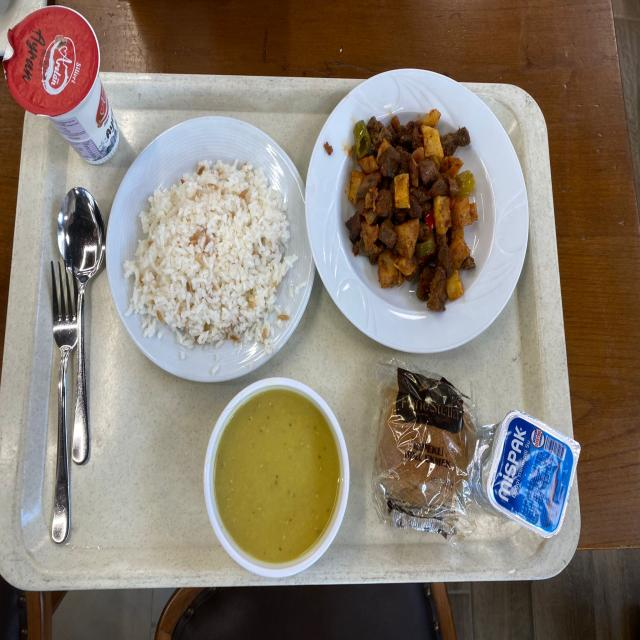ana_yemek: (320, 93, 504, 334), (112, 129, 304, 356)
corba: (205, 383, 350, 572)
